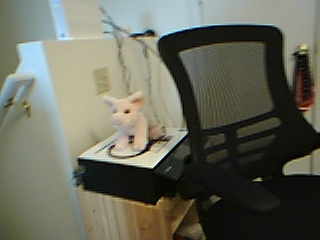piggy: (100, 90, 164, 152)
